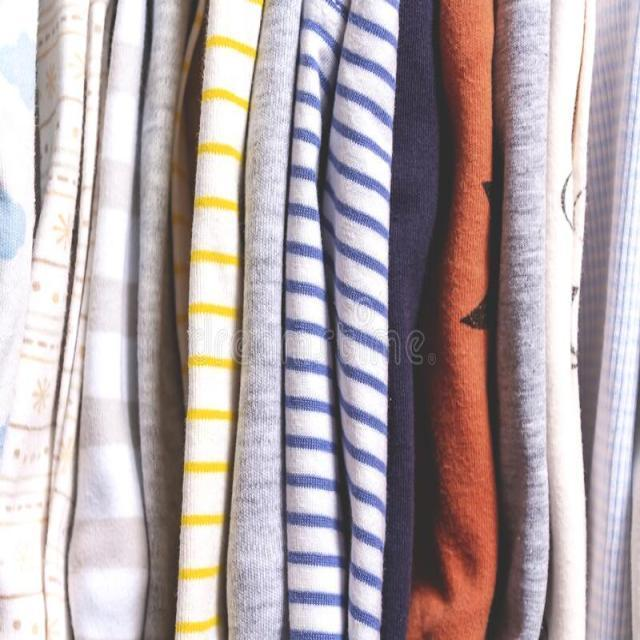clothes: (1, 12, 636, 640)
